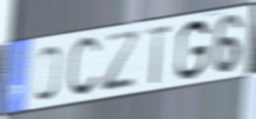0: (35, 44, 62, 103)
6: (210, 13, 245, 76)
C: (66, 34, 103, 100)
G: (174, 18, 211, 83)
T: (144, 23, 173, 88)
Z: (100, 29, 142, 96)
